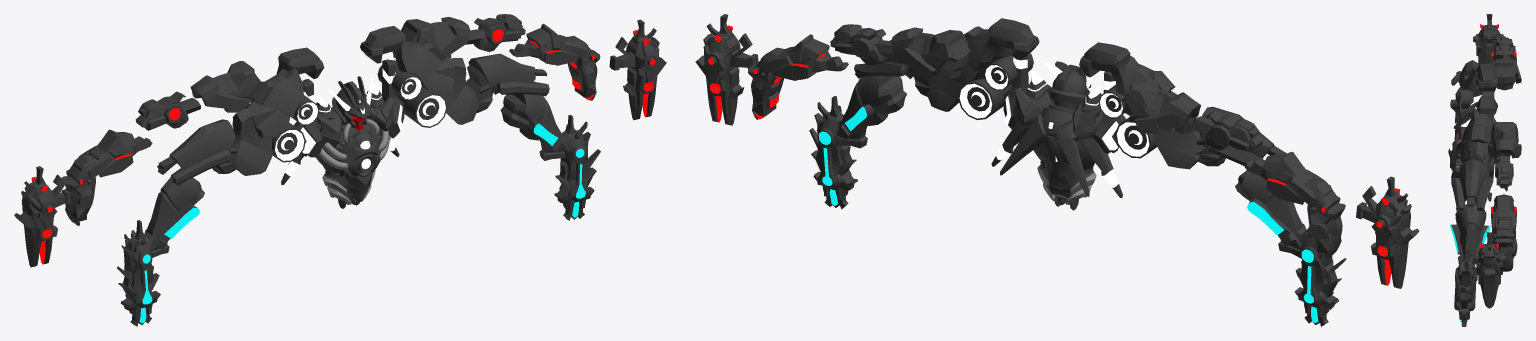
Rendered from xf-09_ares.glb.
3 renders of one model, left to right at view 1: azimuth 30°, elevation 25°; view 2: azimuth 150°, elevation 25°; view 3: azimuth 270°, elevation 25°, orthographic. The views are drawn at different scales.
Parts seen in each view (by area): view 1: gun 1 retop.002; view 2: gun 1 retop.002; view 3: gun 1 retop.002.
Boxes of the visible parts, x1=… form: gun 1 retop.002: x1=14, y1=14, x2=666, y2=326; gun 1 retop.002: x1=695, y1=14, x2=1419, y2=326; gun 1 retop.002: x1=1448, y1=14, x2=1521, y2=326.
Bounding box in the file's own units: 0.1475 × 0.0476 × 0.0195.
